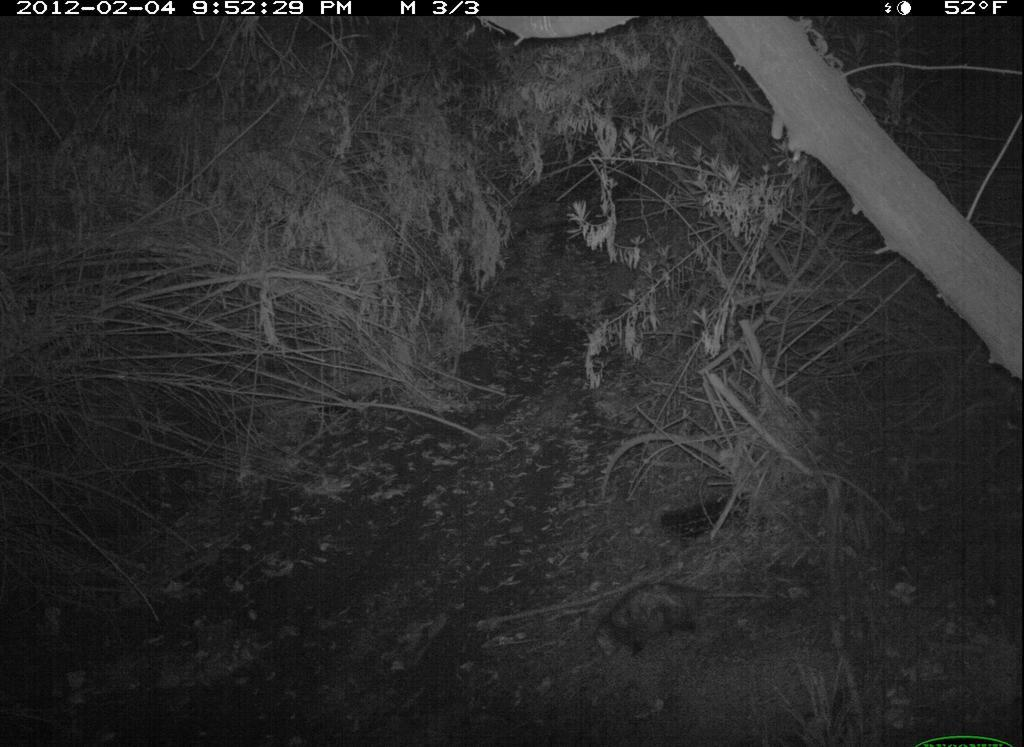opossum: (577, 574, 767, 669)
